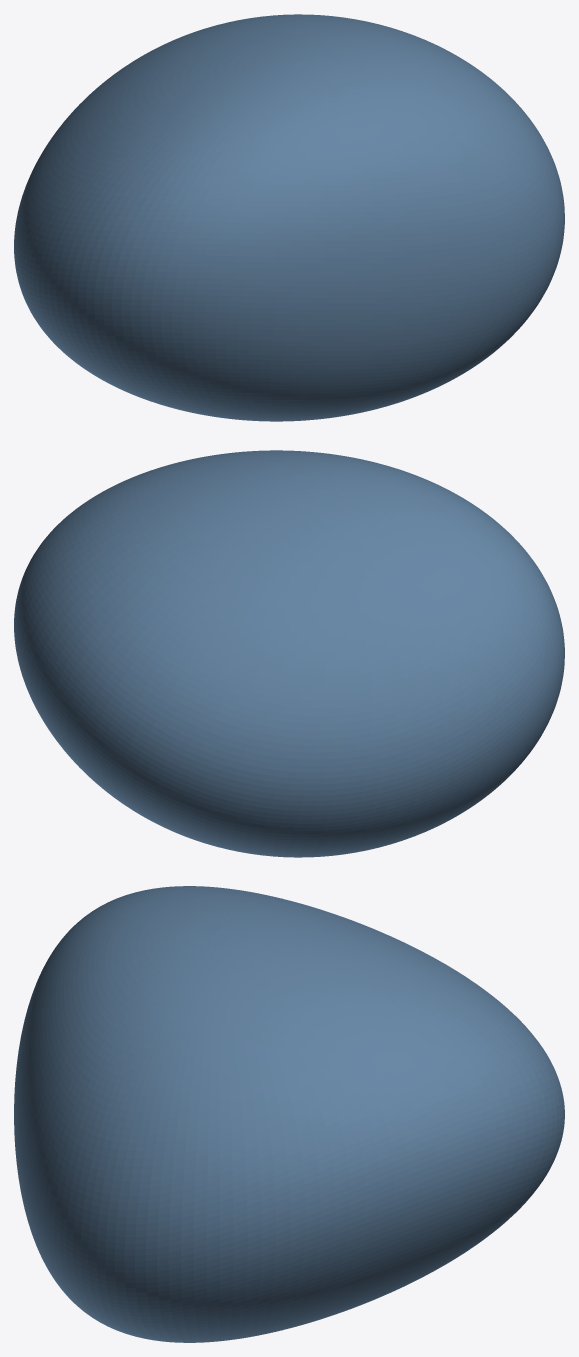
Rendered from assembly_05_Canopy.glb.
3 views of the same model, one above another, from view 1: azimuth 30°, elevation 25°; view 2: azimuth 150°, elevation 25°; view 3: azimuth 270°, elevation 25° (orthographic). The views are drawn at different scales.
Visible parts, largest first — view 1: assembly_05_Canopy_gltf_export_temp; view 2: assembly_05_Canopy_gltf_export_temp; view 3: assembly_05_Canopy_gltf_export_temp.
Part boxes in pixels (x1=…): assembly_05_Canopy_gltf_export_temp: x1=14, y1=14, x2=564, y2=421; assembly_05_Canopy_gltf_export_temp: x1=14, y1=450, x2=564, y2=857; assembly_05_Canopy_gltf_export_temp: x1=14, y1=886, x2=564, y2=1342.
Size of the model in its own units: 0.5707 by 0.3711 by 0.5018.
